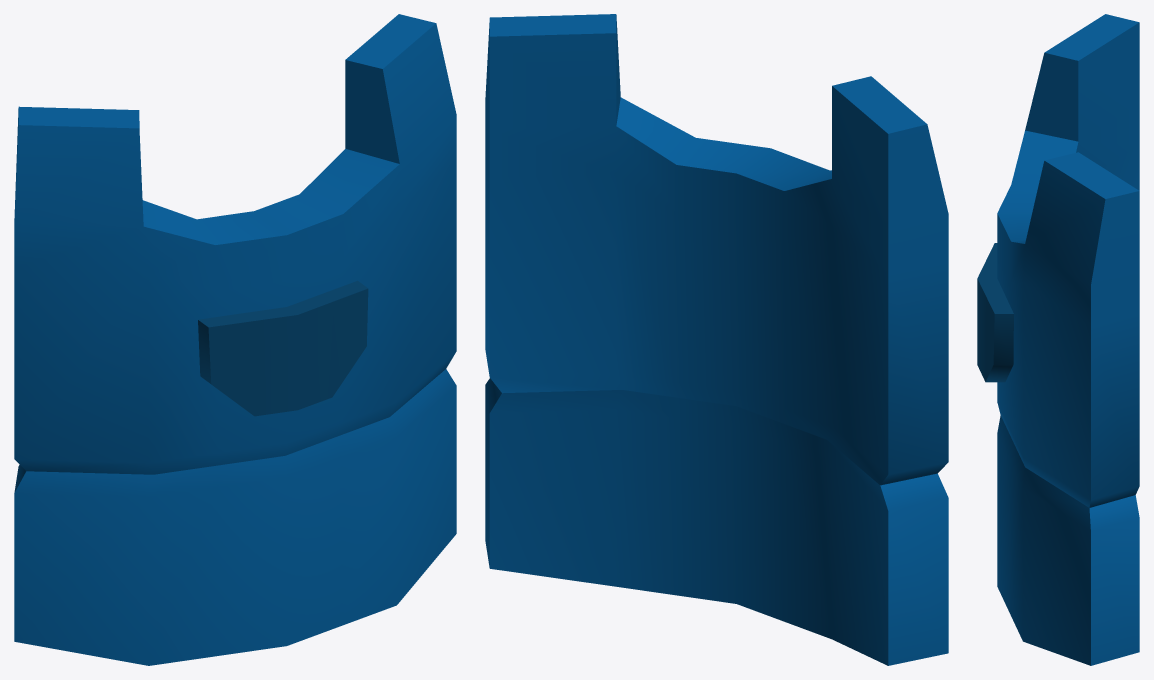
File: Body_Prop_Cooking_Apron_01_C02.fbx
3 renders of one model, left to right at view 1: azimuth 30°, elevation 25°; view 2: azimuth 150°, elevation 25°; view 3: azimuth 270°, elevation 25°, orthographic. The views are drawn at different scales.
Parts seen in each view (by area): view 1: Body_Prop_Cooking_Apron_01_C02; view 2: Body_Prop_Cooking_Apron_01_C02; view 3: Body_Prop_Cooking_Apron_01_C02.
Part boxes in pixels (x1,y1,x2,y2): Body_Prop_Cooking_Apron_01_C02: (14,14,456,665); Body_Prop_Cooking_Apron_01_C02: (485,14,948,665); Body_Prop_Cooking_Apron_01_C02: (977,14,1139,665).
Bounding box in the file's own units: 78.47 × 89.58 × 27.44.
